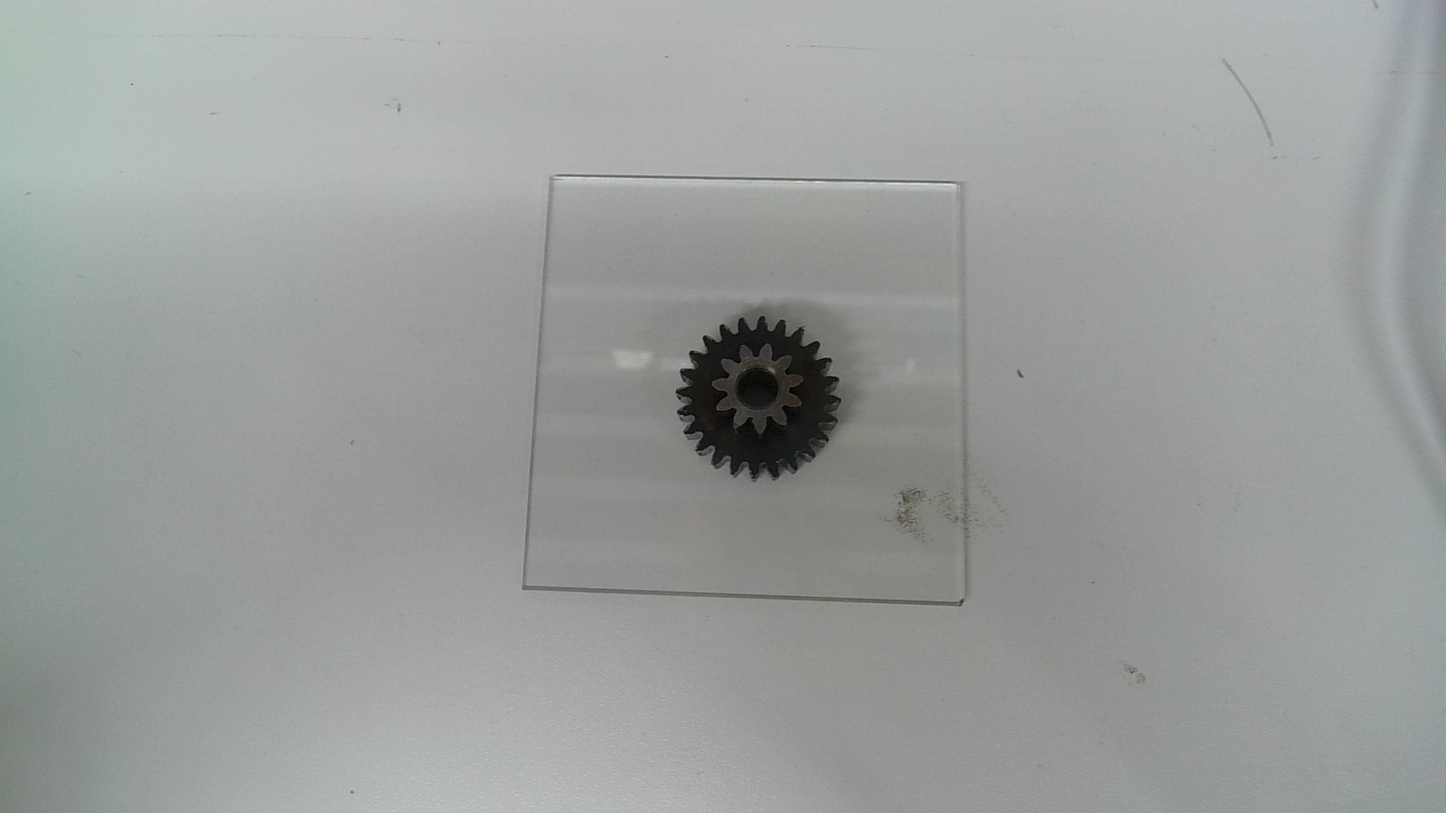gear: (673, 313, 843, 485)
